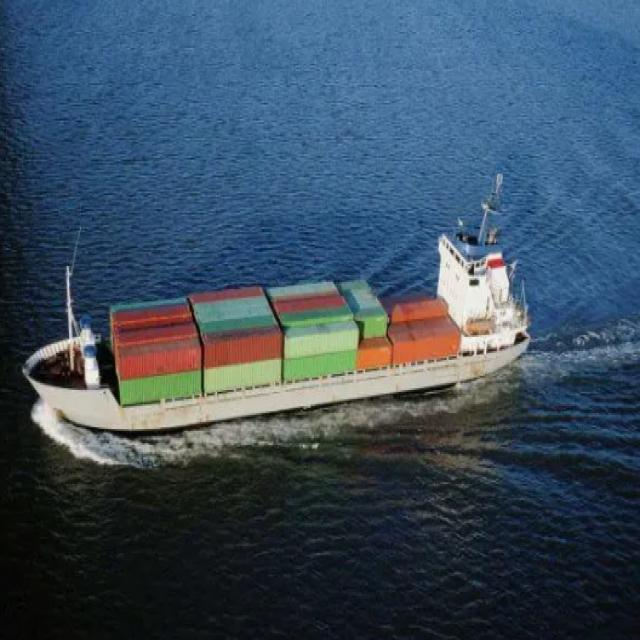cargoship: (24, 172, 540, 432)
